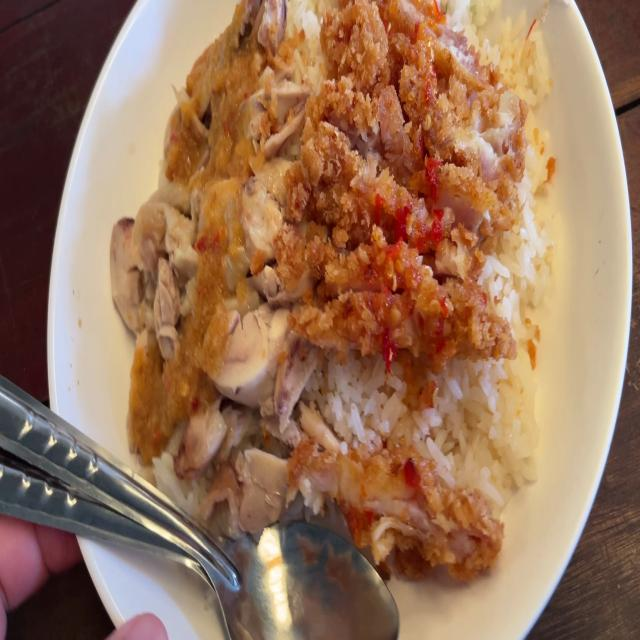chicken_rice: (120, 0, 313, 455)
